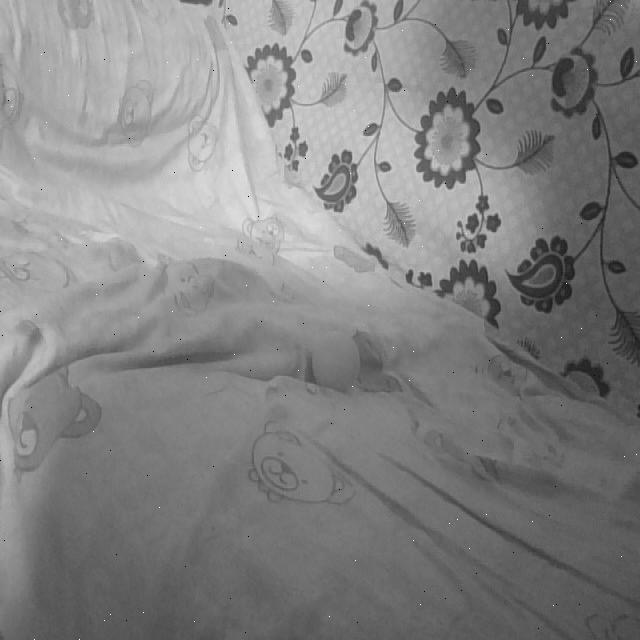ping-pong-ball: (315, 332, 359, 391)
